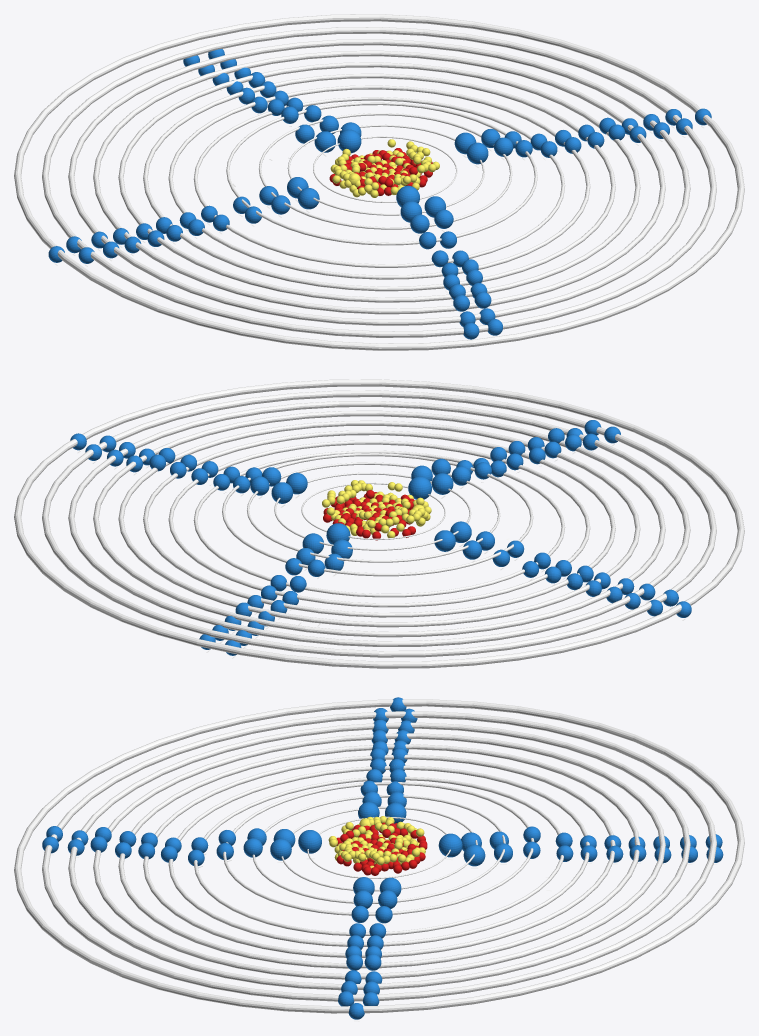
3 renders of one model, top to bottom at view 1: azimuth 30°, elevation 25°; view 2: azimuth 150°, elevation 25°; view 3: azimuth 270°, elevation 25°, orthographic.
Visible parts, largest first — view 1: Torus.012, Torus.011, Torus.010, Torus.009, Torus.008, Torus.007, Torus.006, Torus.005, Torus.004, Torus.003, Torus.002, Torus.001; view 2: Torus.012, Torus.011, Torus.010, Torus.009, Torus.008, Torus.007, Torus.006, Torus.005, Torus.004, Torus.003, Torus.002, Torus.001; view 3: Torus.012, Torus.011, Torus.010, Torus.009, Torus.008, Torus.007, Torus.006, Torus.005, Torus.004, Torus.003, Torus.002, Torus.001.
Boxes of the visible parts, left/top/right/bottom form: Torus.012: left=14, top=14, right=744, bottom=350; Torus.011: left=42, top=27, right=716, bottom=337; Torus.010: left=68, top=39, right=690, bottom=325; Torus.009: left=93, top=50, right=665, bottom=314; Torus.008: left=118, top=62, right=640, bottom=302; Torus.007: left=143, top=73, right=615, bottom=291; Torus.006: left=168, top=85, right=590, bottom=279; Torus.005: left=193, top=97, right=565, bottom=267; Torus.004: left=226, top=102, right=537, bottom=245; Torus.003: left=259, top=113, right=512, bottom=229; Torus.002: left=287, top=124, right=484, bottom=215; Torus.001: left=313, top=136, right=457, bottom=202; Torus.012: left=14, top=379, right=744, bottom=668; Torus.011: left=42, top=390, right=716, bottom=657; Torus.010: left=68, top=401, right=690, bottom=646; Torus.009: left=93, top=410, right=665, bottom=637; Torus.008: left=118, top=420, right=640, bottom=627; Torus.007: left=143, top=430, right=615, bottom=617; Torus.006: left=168, top=440, right=590, bottom=607; Torus.005: left=193, top=450, right=565, bottom=597; Torus.004: left=222, top=453, right=533, bottom=576; Torus.003: left=247, top=462, right=500, bottom=562; Torus.002: left=274, top=472, right=471, bottom=550; Torus.001: left=301, top=482, right=445, bottom=539; Torus.012: left=14, top=699, right=744, bottom=1013; Torus.011: left=42, top=711, right=716, bottom=1001; Torus.010: left=68, top=722, right=690, bottom=990; Torus.009: left=93, top=733, right=665, bottom=979; Torus.008: left=118, top=744, right=640, bottom=968; Torus.007: left=143, top=754, right=615, bottom=957; Torus.006: left=168, top=765, right=589, bottom=946; Torus.005: left=193, top=776, right=563, bottom=935; Torus.004: left=223, top=782, right=534, bottom=915; Torus.003: left=252, top=795, right=505, bottom=903; Torus.002: left=281, top=806, right=477, bottom=891; Torus.001: left=307, top=816, right=450, bottom=878.
Bounding box in the file's own units: 30.7 × 2.85 × 30.34.
